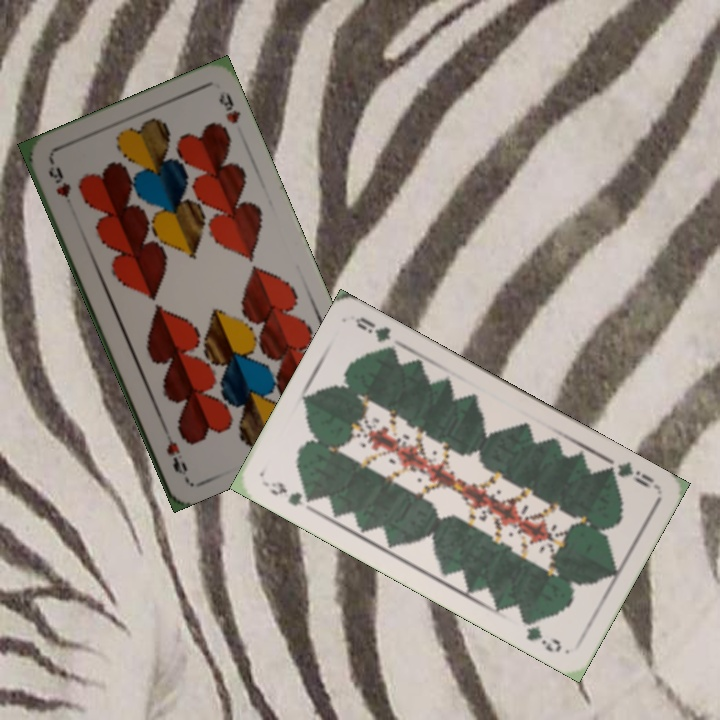G9: (600, 454, 659, 491), (260, 477, 318, 514)
H9: (44, 156, 74, 201)
